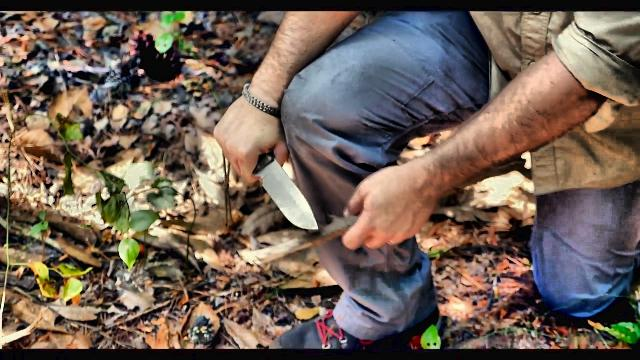knife: (211, 125, 321, 233)
